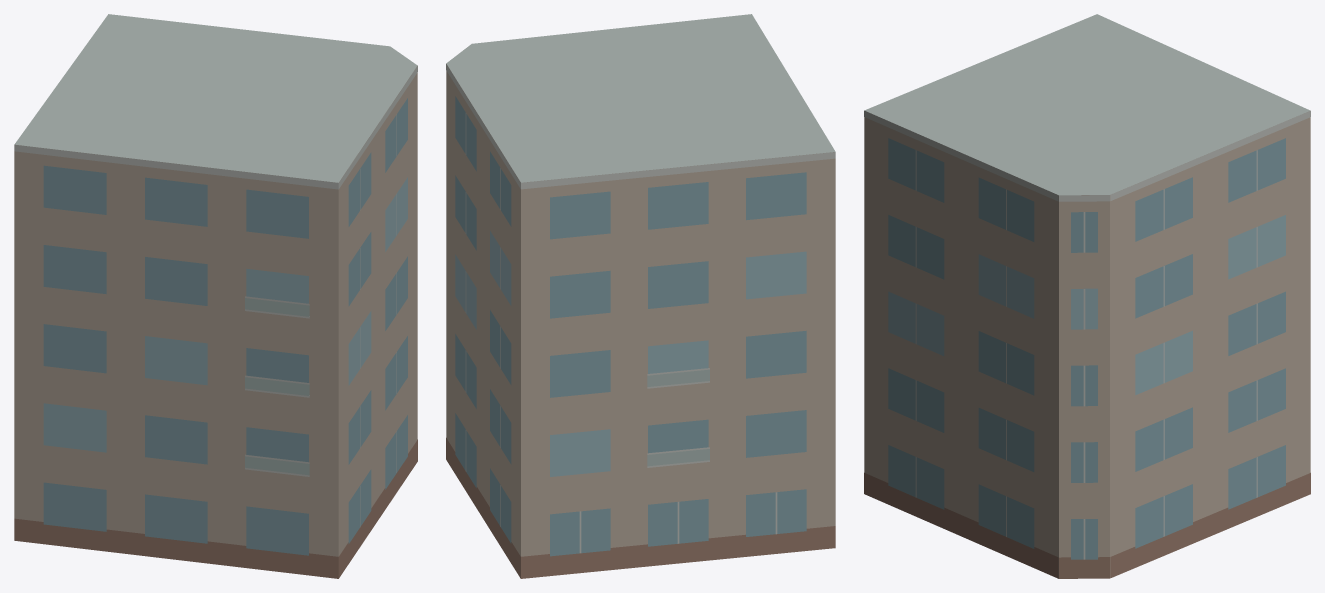
Rendered from survey-upis-32562514.glb.
3 renders of one model, left to right at view 1: azimuth 30°, elevation 25°; view 2: azimuth 150°, elevation 25°; view 3: azimuth 270°, elevation 25°, orthographic. The views are drawn at different scales.
Visible parts, largest first — view 1: survey-upis-32562514.tmp; view 2: survey-upis-32562514.tmp; view 3: survey-upis-32562514.tmp.
Boxes of the visible parts, x1,y1,x2,y2 form: survey-upis-32562514.tmp: (14, 14, 417, 578); survey-upis-32562514.tmp: (446, 14, 835, 578); survey-upis-32562514.tmp: (864, 14, 1310, 578).
Size of the model in its own units: 14.61 by 14.4 by 15.2.
